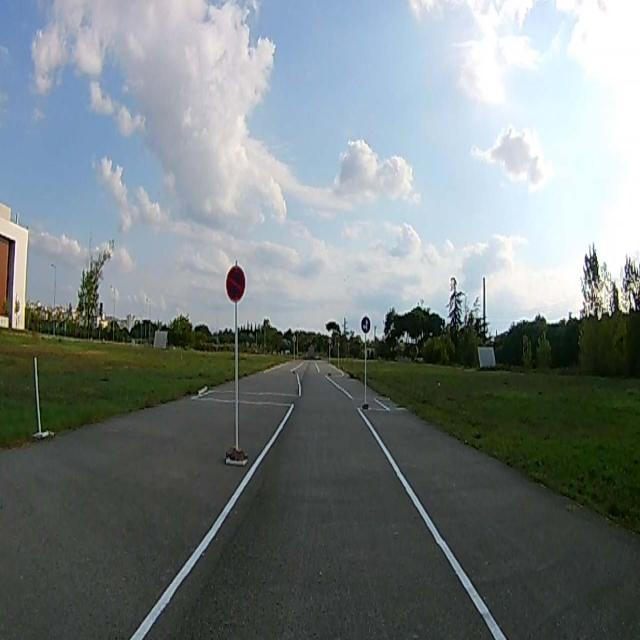parkyasak: (226, 264, 246, 301)
